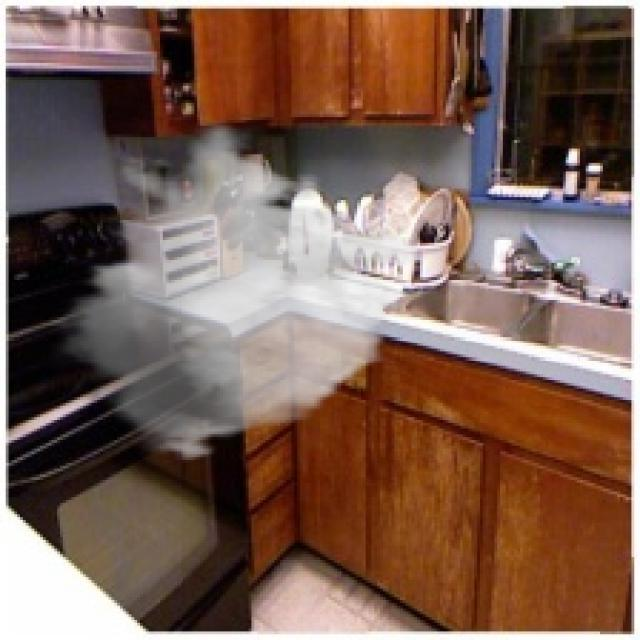Smoke: (49, 120, 428, 463)
